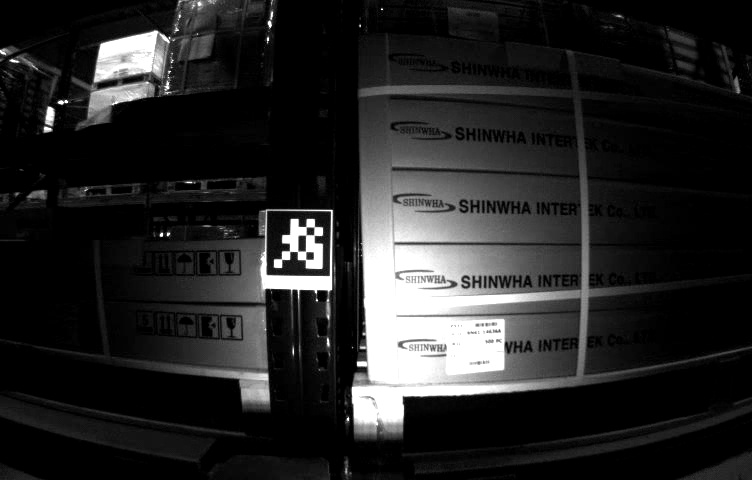True Barcode: (22, 297, 95, 352), (445, 320, 510, 374)
